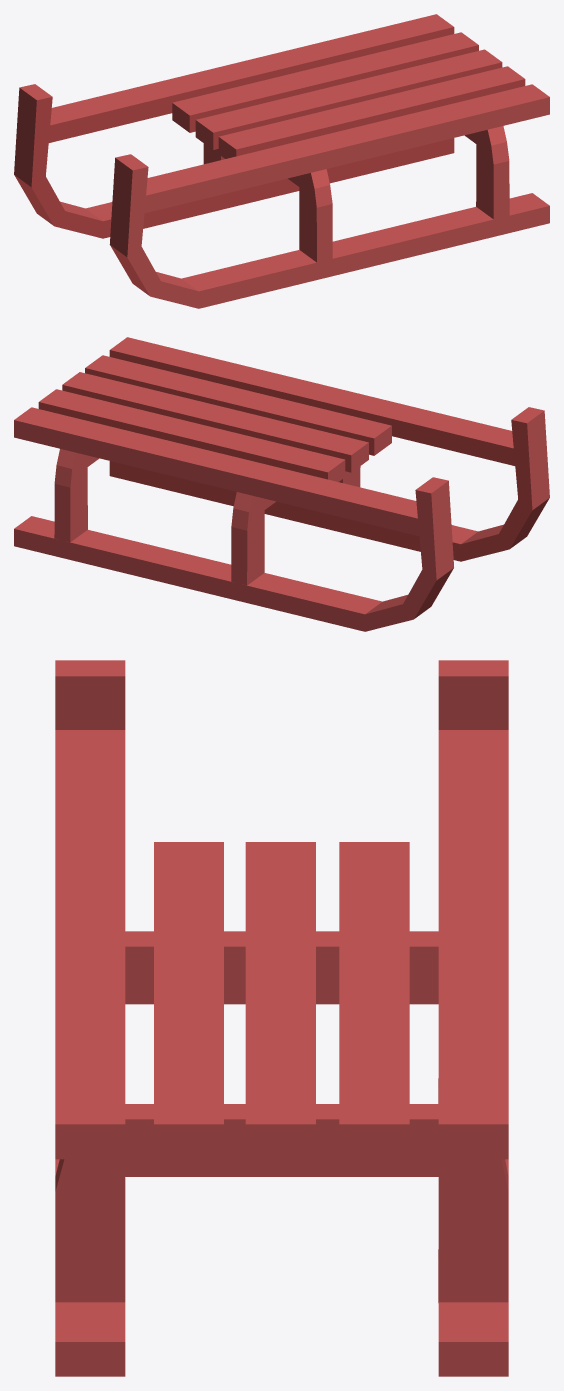
The model's file is Sledge_Alt4.fbx.
The picture shows the model from 3 angles, top to bottom: view 1: azimuth 30°, elevation 25°; view 2: azimuth 150°, elevation 25°; view 3: azimuth 270°, elevation 25°; orthographic projection. The views are drawn at different scales.
Parts seen in each view (by area): view 1: Sledge_Alt4; view 2: Sledge_Alt4; view 3: Sledge_Alt4.
Part boxes in pixels (<box>): Sledge_Alt4: <box>14,14,549,308</box>; Sledge_Alt4: <box>14,337,549,631</box>; Sledge_Alt4: <box>55,660,508,1376</box>.
Size of the model in its own units: 0.6373 by 0.2228 by 0.296.
